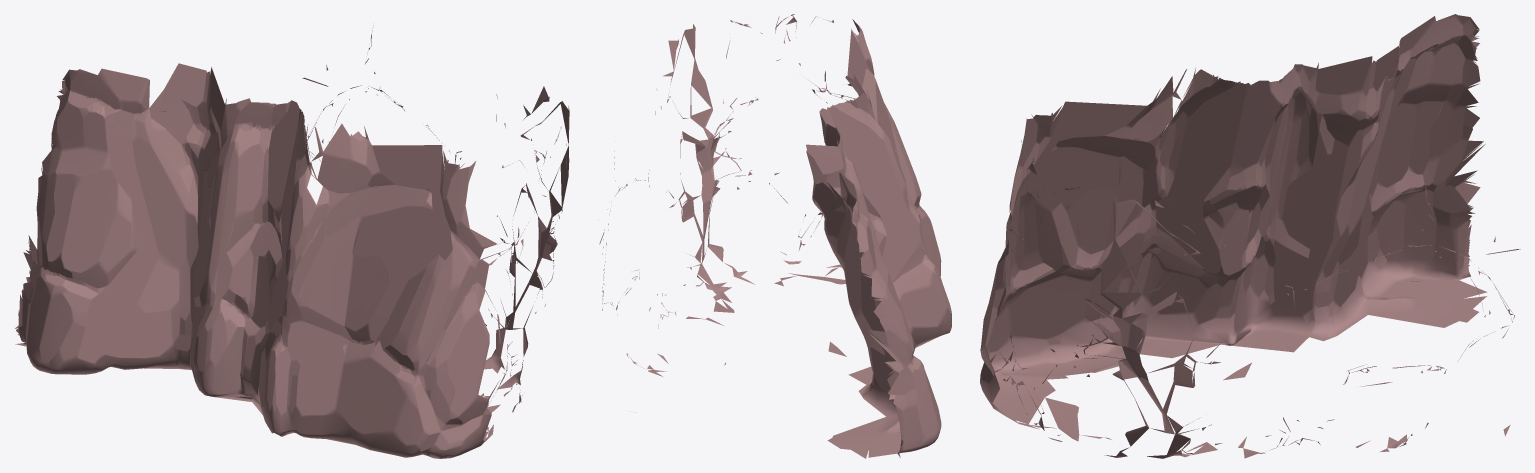
File: canyon.fbx_PolyShape__3__015LODs.fbx
3 renders of one model, left to right at view 1: azimuth 30°, elevation 25°; view 2: azimuth 150°, elevation 25°; view 3: azimuth 270°, elevation 25°, orthographic. The views are drawn at different scales.
Visible parts, largest first — view 1: PolyShape (3).015_LOD0; view 2: PolyShape (3).015_LOD0; view 3: PolyShape (3).015_LOD0.
Part boxes in pixels (bbox=[...]): PolyShape (3).015_LOD0: bbox=[15, 25, 569, 458]; PolyShape (3).015_LOD0: bbox=[599, 14, 951, 458]; PolyShape (3).015_LOD0: bbox=[980, 14, 1520, 458].
Size of what is drawn, in the model's own units: 3532 by 2379 by 3762.
